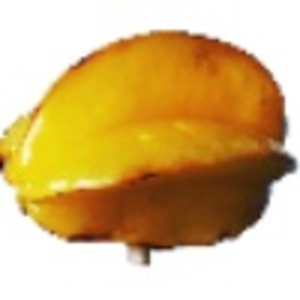carambola: (1, 29, 300, 269)
